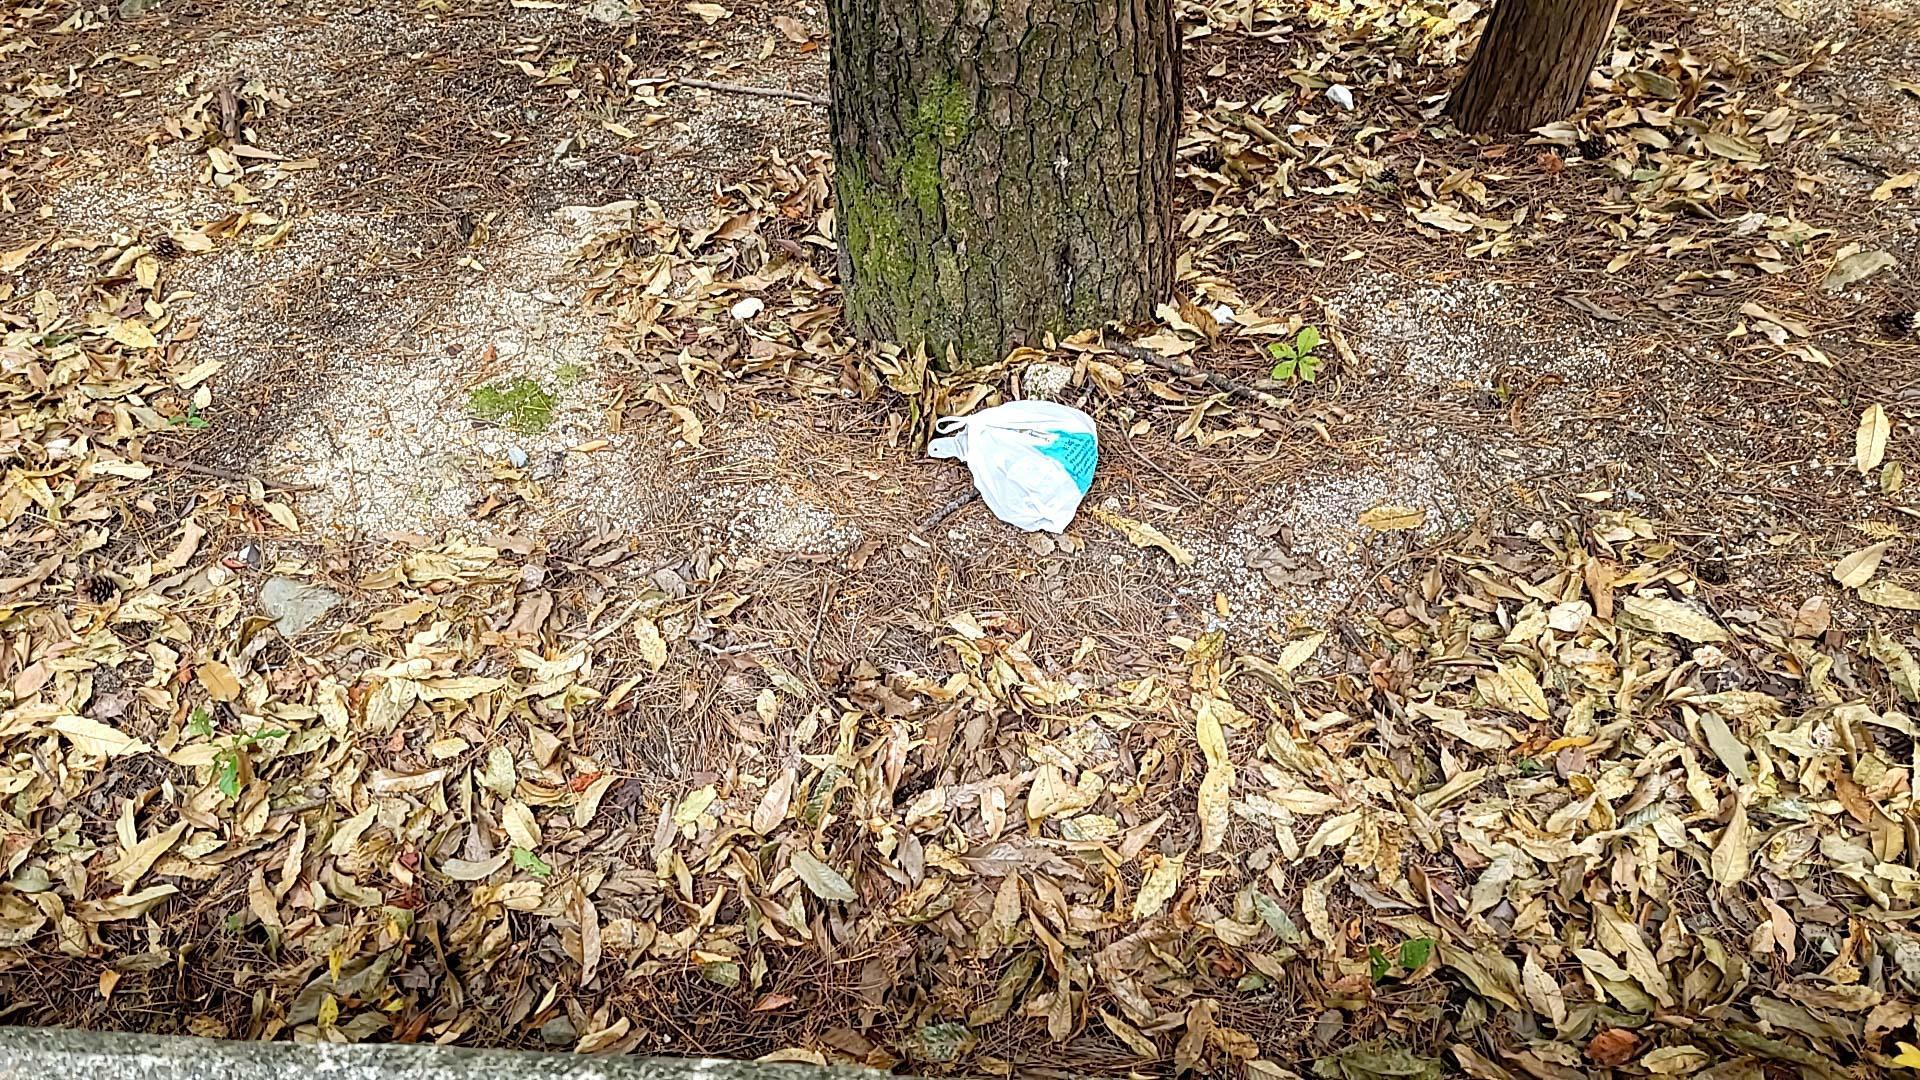white_bag: (920, 398, 1102, 545)
